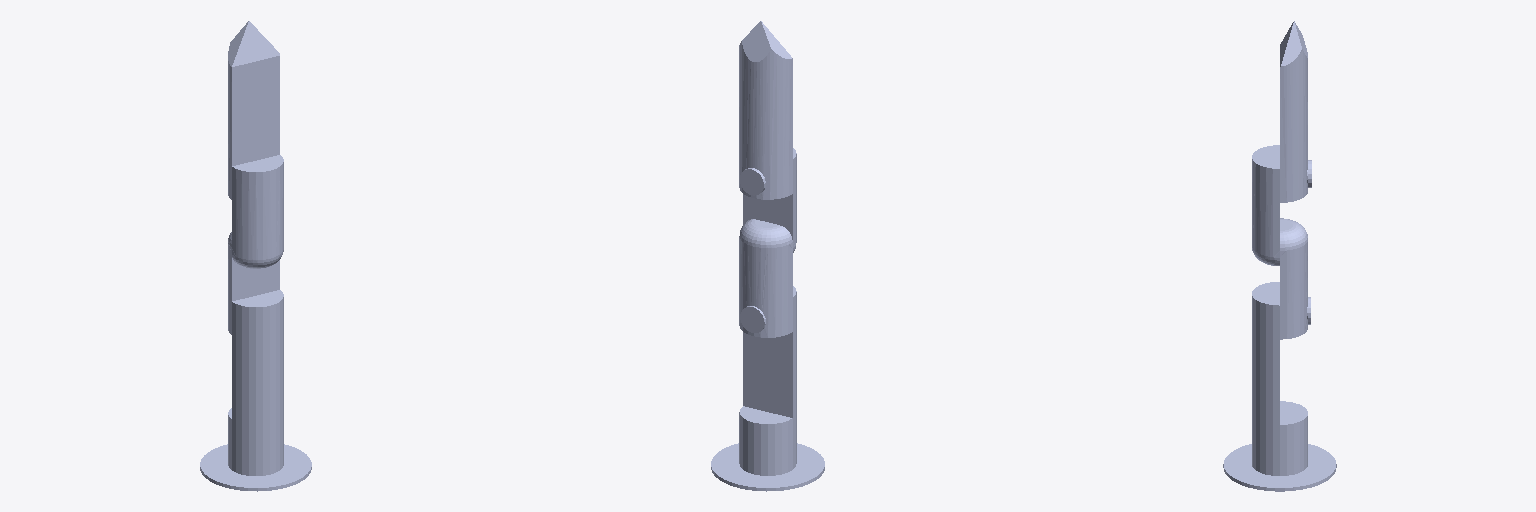
robot.urdf — robotv2_4:
<?xml version="1.0" encoding="utf-8"?>
<!-- This URDF was automatically created by SolidWorks to URDF Exporter! Originally created by [author] ([email redacted]) 
     Commit Version: 1.6.0-1-g15f4949  Build Version: 1.6.7594.29634
     For more information, please see http://wiki.ros.org/sw_urdf_exporter -->
<robot
  name="robotv2_4">
  <link name="world"/>    

  <joint name="world_base_joint" type="fixed">
    <origin xyz="0 0 0" rpy="0 0 0"/>
    <parent link="world"/>
    <child link="base_link"/>
  </joint>
  <link
    name="base_link">
    <inertial>
      <origin
        xyz="-2.8639E-33 -2.7198E-18 0.016957"
        rpy="0 0 0" />
      <mass
        value="0.90321" />
      <inertia
        ixx="0.0046411"
        ixy="1.5739E-34"
        ixz="-6.5052E-36"
        iyy="0.0046411"
        iyz="9.8711E-19"
        izz="0.0080135" />
    </inertial>
    <visual>
      <origin
        xyz="0 0 0"
        rpy="0 0 0" />
      <geometry>
        <mesh
          filename="package://robotv2_4/meshes/base_link.STL" />
      </geometry>
      <material
        name="">
        <color
          rgba="0.79216 0.81961 0.93333 1" />
      </material>
    </visual>
    <collision>
      <origin
        xyz="0 0 0"
        rpy="0 0 0" />
      <geometry>
        <mesh
          filename="package://robotv2_4/meshes/base_link.STL" />
      </geometry>
    </collision>
  </link>
  <link
    name="Link1">
    <inertial>
      <origin
        xyz="4.0534E-18 -0.015806 0.22257"
        rpy="0 0 0" />
      <mass
        value="5.7251" />
      <inertia
        ixx="0.13703"
        ixy="-6.237E-19"
        ixz="-1.251E-18"
        iyy="0.13803"
        iyz="0.0082748"
        izz="0.015162" />
    </inertial>
    <visual>
      <origin
        xyz="0 0 0"
        rpy="0 0 0" />
      <geometry>
        <mesh
          filename="package://robotv2_4/meshes/Link1.STL" />
      </geometry>
      <material
        name="">
        <color
          rgba="0.79216 0.81961 0.93333 1" />
      </material>
    </visual>
    <collision>
      <origin
        xyz="0 0 0"
        rpy="0 0 0" />
      <geometry>
        <mesh
          filename="package://robotv2_4/meshes/Link1.STL" />
      </geometry>
    </collision>
  </link>
  <joint
    name="Joint1"
    type="fixed">
    <origin
      xyz="0 0 0.01"
      rpy="0 0 0" />
    <parent
      link="base_link" />
    <child
      link="Link1" />
    <axis
      xyz="0 0 0" />
  </joint>
  <link
    name="Link2">
    <inertial>
      <origin
        xyz="0.21341 2.2612E-08 0.00062928"
        rpy="0 0 0" />
      <mass
        value="5.1936" />
      <inertia
        ixx="0.01455"
        ixy="-3.9138E-08"
        ixz="0.014192"
        iyy="0.1004"
        iyz="-2.7137E-08"
        izz="0.10014" />
    </inertial>
    <visual>
      <origin
        xyz="0 0 0"
        rpy="0 0 0" />
      <geometry>
        <mesh
          filename="package://robotv2_4/meshes/Link2.STL" />
      </geometry>
      <material
        name="">
        <color
          rgba="0.79216 0.81961 0.93333 1" />
      </material>
    </visual>
    <collision>
      <origin
        xyz="0 0 0"
        rpy="0 0 0" />
      <geometry>
        <mesh
          filename="package://robotv2_4/meshes/Link2.STL" />
      </geometry>
    </collision>
  </link>
  <joint
    name="Joint2"
    type="revolute">
    <origin
      xyz="0 0 0.45"
      rpy="1.5708 -1.5708 3.1416" />
    <parent
      link="Link1" />
    <child
      link="Link2" />
    <axis
      xyz="0 0 1" />
    <limit
      lower="-2.3562"
      upper="2.3562"
      effort="0"
      velocity="0" />
    <joint_properties damping="0.0" friction="0.0"/>
  </joint>
  <link
    name="Link3">
    <inertial>
      <origin
        xyz="0.17596 -0.0068623 0.031985"
        rpy="0 0 0" />
      <mass
        value="3.6966" />
      <inertia
        ixx="0.0066264"
        ixy="-7.3118E-05"
        ixz="-0.00042259"
        iyy="0.058934"
        iyz="1.3616E-06"
        izz="0.062779" />
    </inertial>
    <visual>
      <origin
        xyz="0 0 0"
        rpy="0 0 0" />
      <geometry>
        <mesh
          filename="package://robotv2_4/meshes/Link3.STL" />
      </geometry>
      <material
        name="">
        <color
          rgba="0.79216 0.81961 0.93333 1" />
      </material>
    </visual>
    <collision>
      <origin
        xyz="0 0 0"
        rpy="0 0 0" />
      <geometry>
        <mesh
          filename="package://robotv2_4/meshes/Link3.STL" />
      </geometry>
    </collision>
  </link>
  <joint
    name="joint3"
    type="revolute">
    <origin
      xyz="0.39994 0.0069615 0"
      rpy="0 0 0" />
    <parent
      link="Link2" />
    <child
      link="Link3" />
    <axis
      xyz="0 0 1" />
    <limit
      lower="-2.3562"
      upper="2.3562"
      effort="0"
      velocity="0" />
    <joint_properties damping="0.0" friction="0.0"/>
  </joint>
  <link name="tcp"/>    

  <joint name="tcp_joint" type="fixed">
    <origin xyz="0.450 0 0" rpy="0 0 0"/>
    <parent link="Link3"/>
    <child link="tcp"/>
  </joint>




<transmission name="tran_2">
    <type>transmission_interface/SimpleTransmission</type>
    <joint name="Joint2">
        <hardwareInterface>hardware_interface/PositionJointInterface</hardwareInterface>
    </joint>
    <actuator name="actuator2">
        <hardwareInterface>hardware_interface/PositionJointInterface</hardwareInterface>
        <mechanicalReduction>1</mechanicalReduction>
    </actuator>
</transmission>




<transmission name="tran_3">
    <type>transmission_interface/SimpleTransmission</type>
    <joint name="joint3">
        <hardwareInterface>hardware_interface/PositionJointInterface</hardwareInterface>
    </joint>
    <actuator name="actuator3">
        <hardwareInterface>hardware_interface/PositionJointInterface</hardwareInterface>
        <mechanicalReduction>1</mechanicalReduction>
    </actuator>
</transmission>








  <gazebo>
  <plugin name="gazebo_ros_control" filename="libgazebo_ros_control.so">
    <robotNamespace>/</robotNamespace>
    <robotSimType>gazebo_ros_control/DefaultRobotHWSim</robotSimType>
  </plugin>
  </gazebo>
</robot>

--- Render facts (derived) ---
The picture shows the robot from 3 angles, left to right: view 1: azimuth 30°, elevation 25°; view 2: azimuth 150°, elevation 25°; view 3: azimuth 270°, elevation 25°; orthographic projection.
Model robotv2_4 with 6 links and 5 joints (2 revolute, 3 fixed), rooted at world, posed every joint at zero.
Links seen in each view (by area): view 1: Link1, Link2, Link3, base_link; view 2: Link1, Link3, Link2, base_link; view 3: Link1, Link2, Link3, base_link.
Link boxes in pixels (x1,y1,x2,y2): Link1: (228,290,283,475); Link2: (228,155,283,334); Link3: (228,21,279,199); base_link: (200,444,311,491); Link1: (739,286,796,475); Link3: (739,21,792,199); Link2: (739,148,796,337); base_link: (711,443,824,491); Link1: (1252,282,1310,475); Link2: (1252,145,1311,339); Link3: (1280,21,1307,202); base_link: (1223,444,1336,491).
Size in the robot's own frame: 0.299 by 0.3 by 1.31 metres.
4 mesh visuals loaded from 4 distinct referenced files (4 binary STL).
